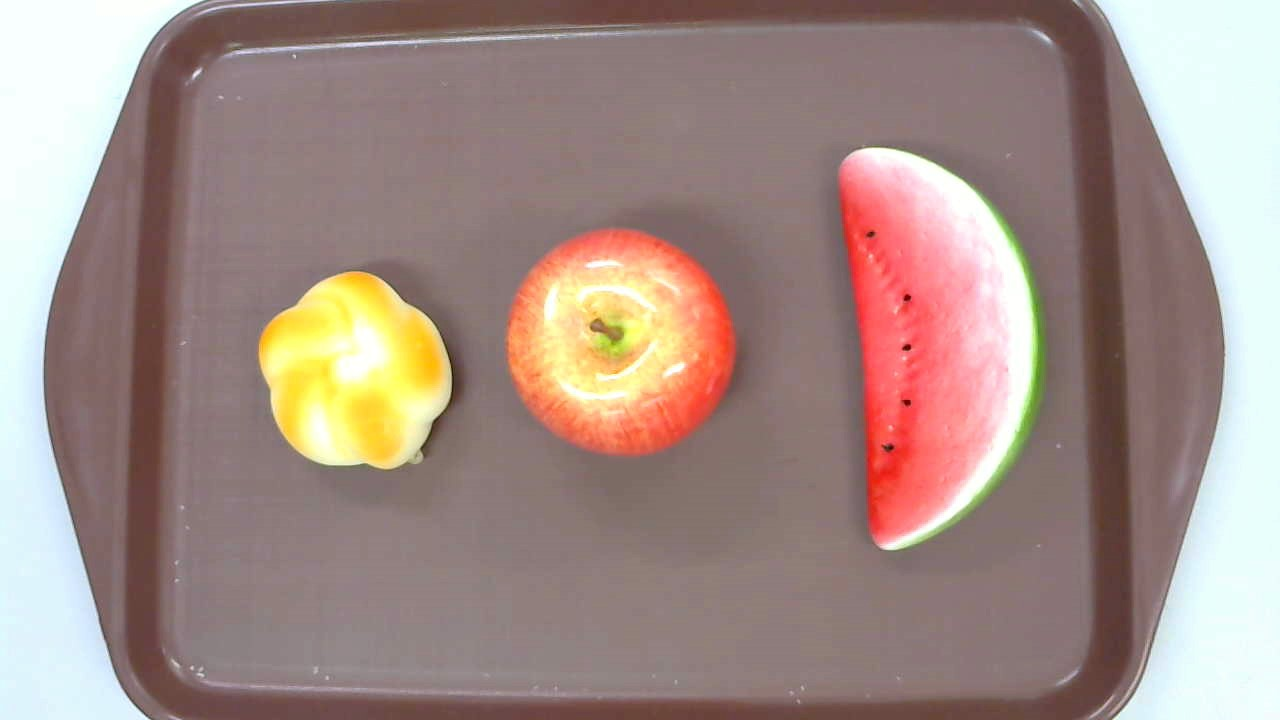red apple: (505, 228, 738, 459)
twist bread: (259, 272, 452, 470)
water melon: (837, 147, 1047, 552)
